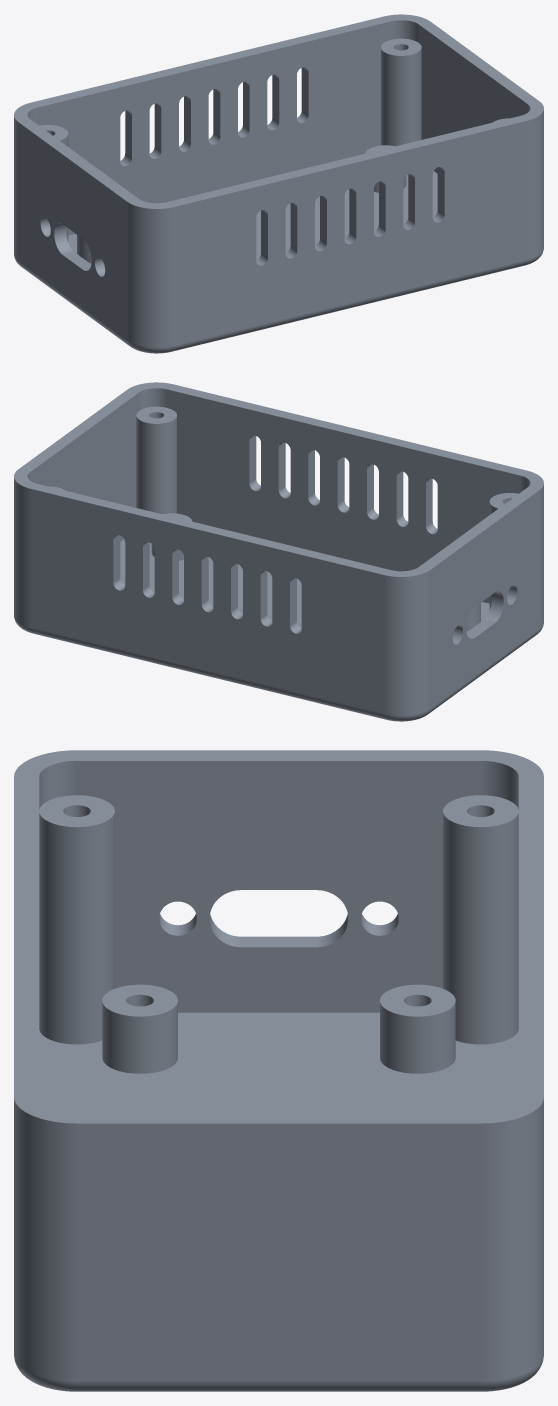
Rendered from step-6-preview-1.glb.
3 renders of one model, top to bottom at view 1: azimuth 30°, elevation 25°; view 2: azimuth 150°, elevation 25°; view 3: azimuth 270°, elevation 25°, orthographic. The views are drawn at different scales.
Visible parts, largest first — view 1: preview_50, preview_3, preview_47, preview_6, preview_1, preview_48, preview_0, preview_52, preview_101, preview_4, preview_49, preview_5 (+2 smaller); view 2: preview_51, preview_42, preview_47, preview_6, preview_1, preview_49, preview_7, preview_53, preview_102, preview_4, preview_48, preview_8 (+2 smaller); view 3: preview_54, preview_40, preview_4, preview_6, preview_52, preview_53, preview_10, preview_41, preview_105, preview_43, preview_45, preview_94 (+6 smaller).
Boxes of the visible parts, <box> form: preview_50: <box>173,121,526,345</box>; preview_3: <box>37,21,390,235</box>; preview_47: <box>18,122,127,339</box>; preview_6: <box>14,14,543,208</box>; preview_1: <box>419,25,527,173</box>; preview_48: <box>127,202,173,347</box>; preview_0: <box>381,48,421,146</box>; preview_52: <box>527,110,543,259</box>; preview_101: <box>172,259,526,351</box>; preview_4: <box>68,171,437,263</box>; preview_49: <box>14,116,18,260</box>; preview_5: <box>391,20,418,42</box>; preview_51: <box>31,489,384,713</box>; preview_42: <box>167,389,520,603</box>; preview_47: <box>430,490,539,707</box>; preview_6: <box>14,382,543,576</box>; preview_1: <box>30,393,138,541</box>; preview_49: <box>384,570,430,715</box>; preview_7: <box>136,416,176,514</box>; preview_53: <box>14,478,30,627</box>; preview_102: <box>31,627,385,719</box>; preview_4: <box>120,539,489,631</box>; preview_48: <box>539,484,543,628</box>; preview_8: <box>139,388,166,410</box>; preview_54: <box>77,1123,480,1380</box>; preview_40: <box>77,761,480,1012</box>; preview_4: <box>39,1012,518,1112</box>; preview_6: <box>14,750,543,1123</box>; preview_52: <box>14,1098,76,1380</box>; preview_53: <box>481,1098,543,1380</box>; preview_10: <box>443,812,518,1044</box>; preview_41: <box>39,812,114,1044</box>; preview_105: <box>77,1381,480,1391</box>; preview_43: <box>102,1002,177,1073</box>; preview_45: <box>380,1002,455,1073</box>; preview_94: <box>102,984,177,1016</box>.
Size of the model in its own units: 0.07 by 0.024 by 0.042.
